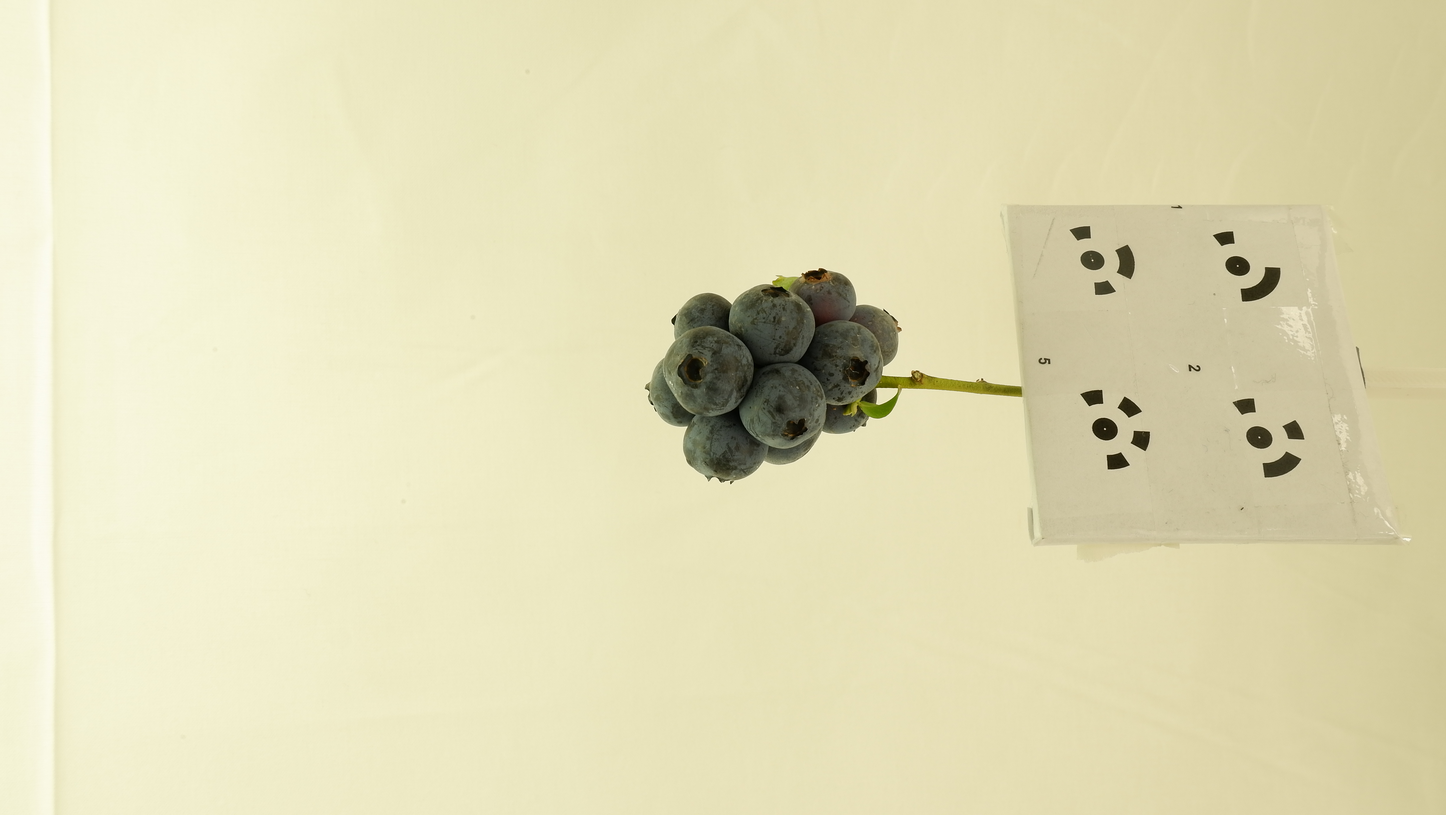Immature: (773, 275, 801, 289)
Mature: (662, 326, 754, 416), (728, 284, 815, 374), (794, 320, 883, 407), (738, 364, 827, 449), (683, 408, 770, 485), (789, 267, 856, 328), (645, 358, 695, 427), (849, 305, 902, 368), (671, 292, 732, 339), (822, 387, 877, 434), (765, 423, 825, 464)
